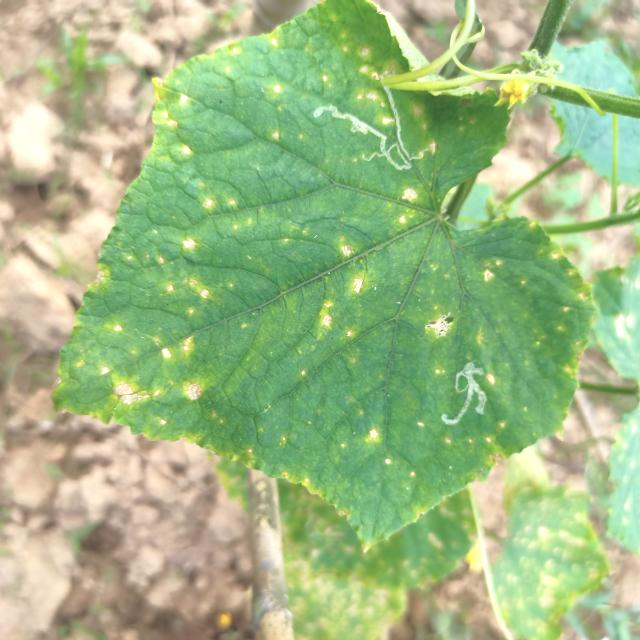disease_cucumber: (75, 84, 258, 434), (196, 8, 454, 145), (286, 179, 466, 356), (456, 226, 594, 382), (330, 367, 515, 477)
